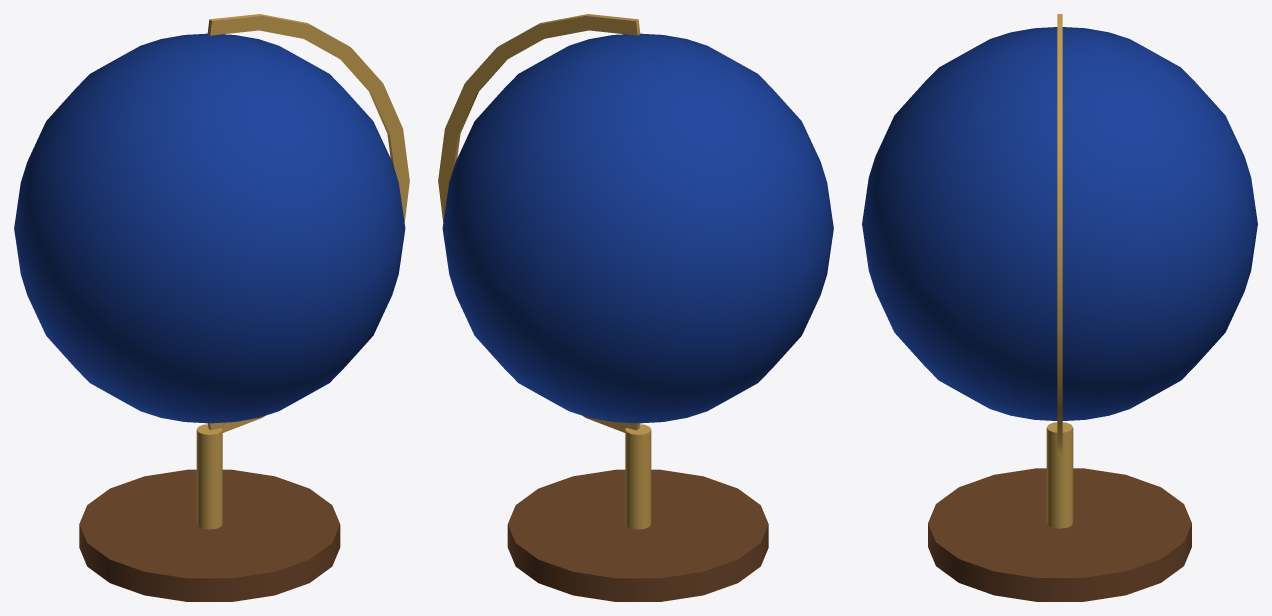
The model's file is school.misc.globe.glb.
The picture shows the model from 3 angles, left to right: view 1: azimuth 30°, elevation 25°; view 2: azimuth 150°, elevation 25°; view 3: azimuth 270°, elevation 25°; orthographic projection.
Visible parts, largest first — view 1: main__plastic_blue, main__hardwood, main__brass; view 2: main__plastic_blue, main__hardwood, main__brass; view 3: main__plastic_blue, main__hardwood, main__brass.
Part boxes in pixels (box(x1,y1,x2,y2)): main__plastic_blue: box(14, 33, 405, 423); main__hardwood: box(79, 469, 340, 601); main__brass: box(196, 14, 409, 529); main__plastic_blue: box(442, 33, 833, 423); main__hardwood: box(507, 469, 768, 601); main__brass: box(438, 14, 651, 529); main__plastic_blue: box(862, 27, 1257, 420); main__hardwood: box(928, 468, 1191, 601); main__brass: box(1046, 14, 1073, 528).
Bounding box in the file's own units: 0.326 × 0.4459 × 0.3.
